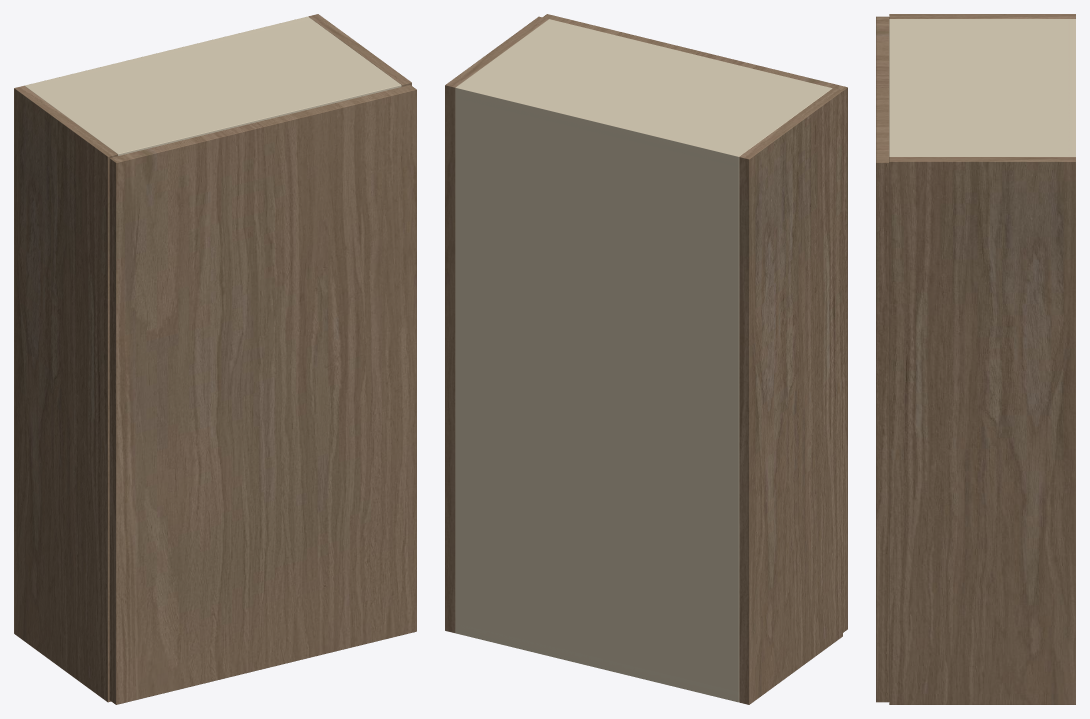
The model's file is oppein-ply-mnw-w2136.glb.
3 views of the same model, side by side, from view 1: azimuth 30°, elevation 25°; view 2: azimuth 150°, elevation 25°; view 3: azimuth 270°, elevation 25° (orthographic).
Parts seen in each view (by area): view 1: Door, Cabinet side, Cabinet top, Cabinet back, Cabinet side.001; view 2: Cabinet back, Cabinet side, Cabinet top, Cabinet side.001, Door, Cabinet bottom; view 3: Cabinet side.001, Cabinet top, Door, Cabinet back, Cabinet side.
Part boxes in pixels (x1,y1,x2,y2): Door: [109, 85, 416, 704]; Cabinet side: [14, 86, 117, 702]; Cabinet top: [25, 19, 401, 155]; Cabinet back: [25, 16, 310, 87]; Cabinet side.001: [308, 14, 411, 86]; Cabinet back: [455, 85, 742, 702]; Cabinet side: [739, 88, 842, 704]; Cabinet top: [455, 19, 832, 166]; Cabinet side.001: [445, 16, 548, 632]; Door: [542, 14, 847, 632]; Cabinet bottom: [455, 623, 739, 701]; Cabinet side.001: [889, 157, 1075, 704]; Cabinet top: [889, 19, 1075, 156]; Door: [876, 16, 889, 702]; Cabinet back: [1068, 19, 1075, 156]; Cabinet side: [889, 14, 1075, 18].
Bounding box in the file's own units: 0.5334 × 0.9144 × 0.3048.
Materials: 2 (1 with a texture image).
